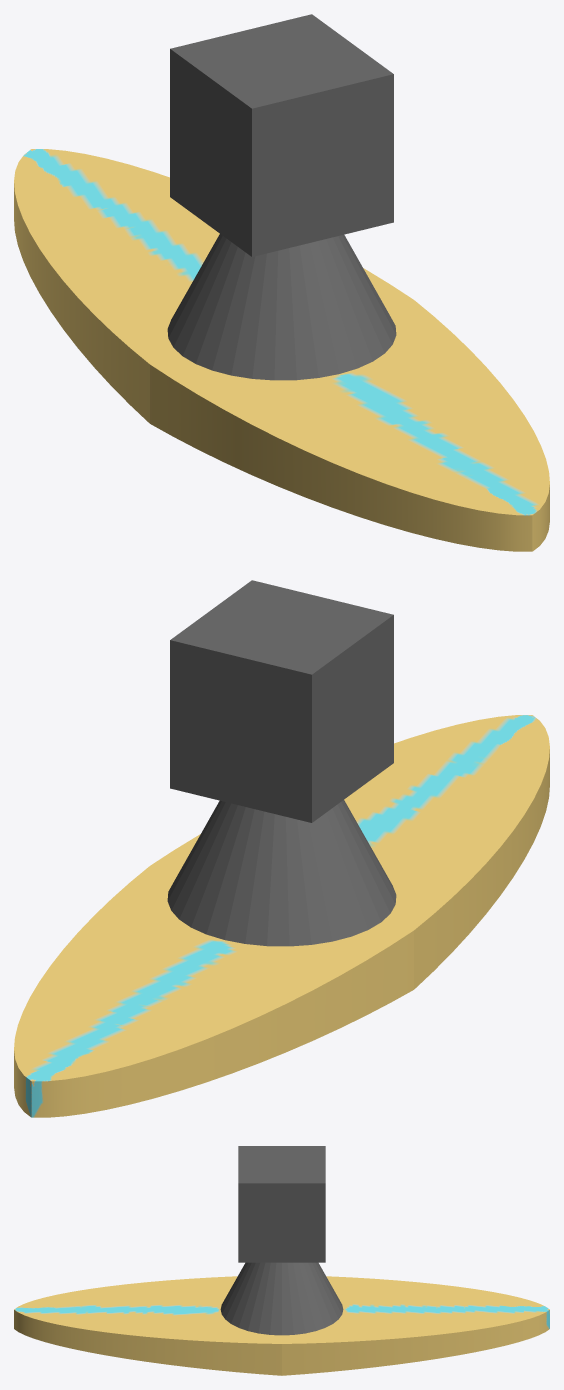
The model's file is Player.gltf.
3 views of the same model, one above another, from view 1: azimuth 30°, elevation 25°; view 2: azimuth 150°, elevation 25°; view 3: azimuth 270°, elevation 25° (orthographic). The views are drawn at different scales.
Visible parts, largest first — view 1: 立方体; view 2: 立方体; view 3: 立方体.
Part boxes in pixels (x1,y1,x2,y2): 立方体: (14,14,549,551); 立方体: (14,580,549,1117); 立方体: (14,1146,549,1375).
Size of the model in its own units: 2.24 by 2.89 by 7.34.
1 material, 1 textured.
